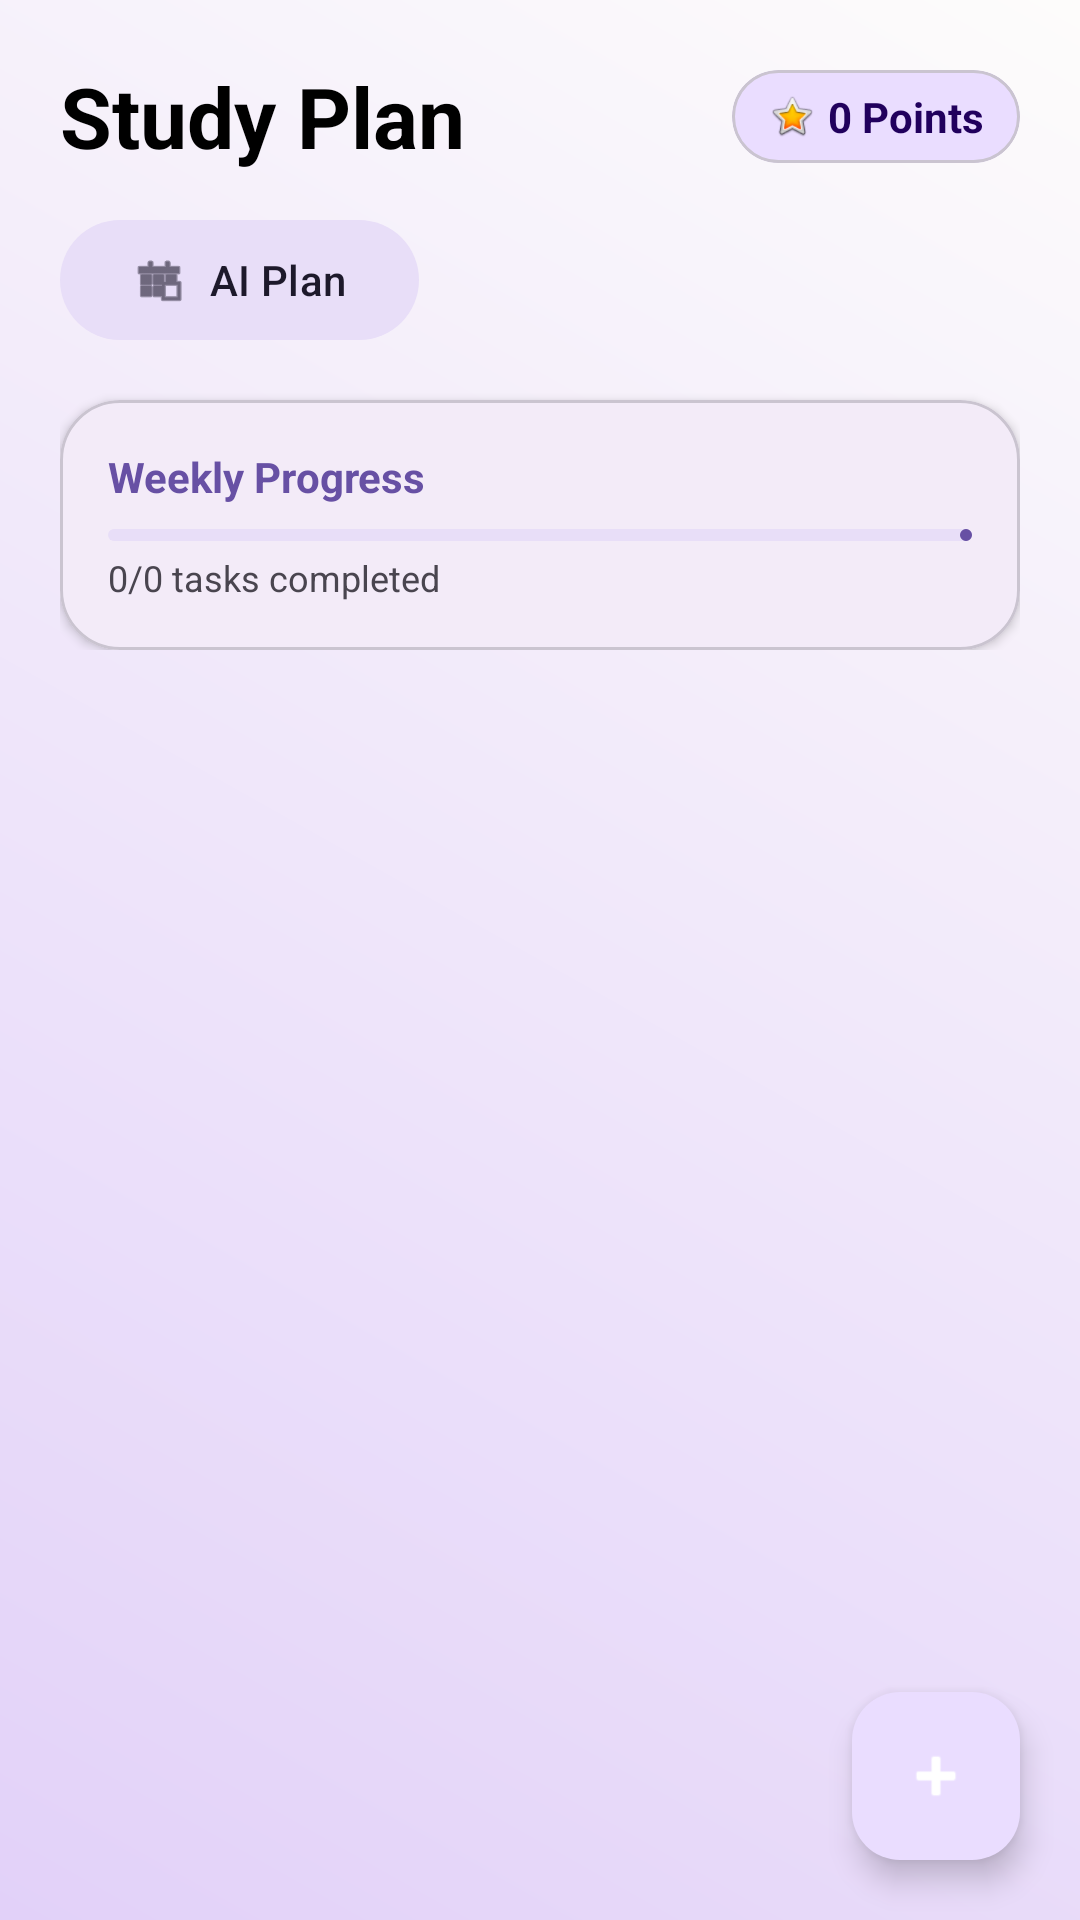

Icons on this 1080 x 1920 Android screen, each with the point to tap as (x=x, y=y):
star on: (x=792, y=116)
